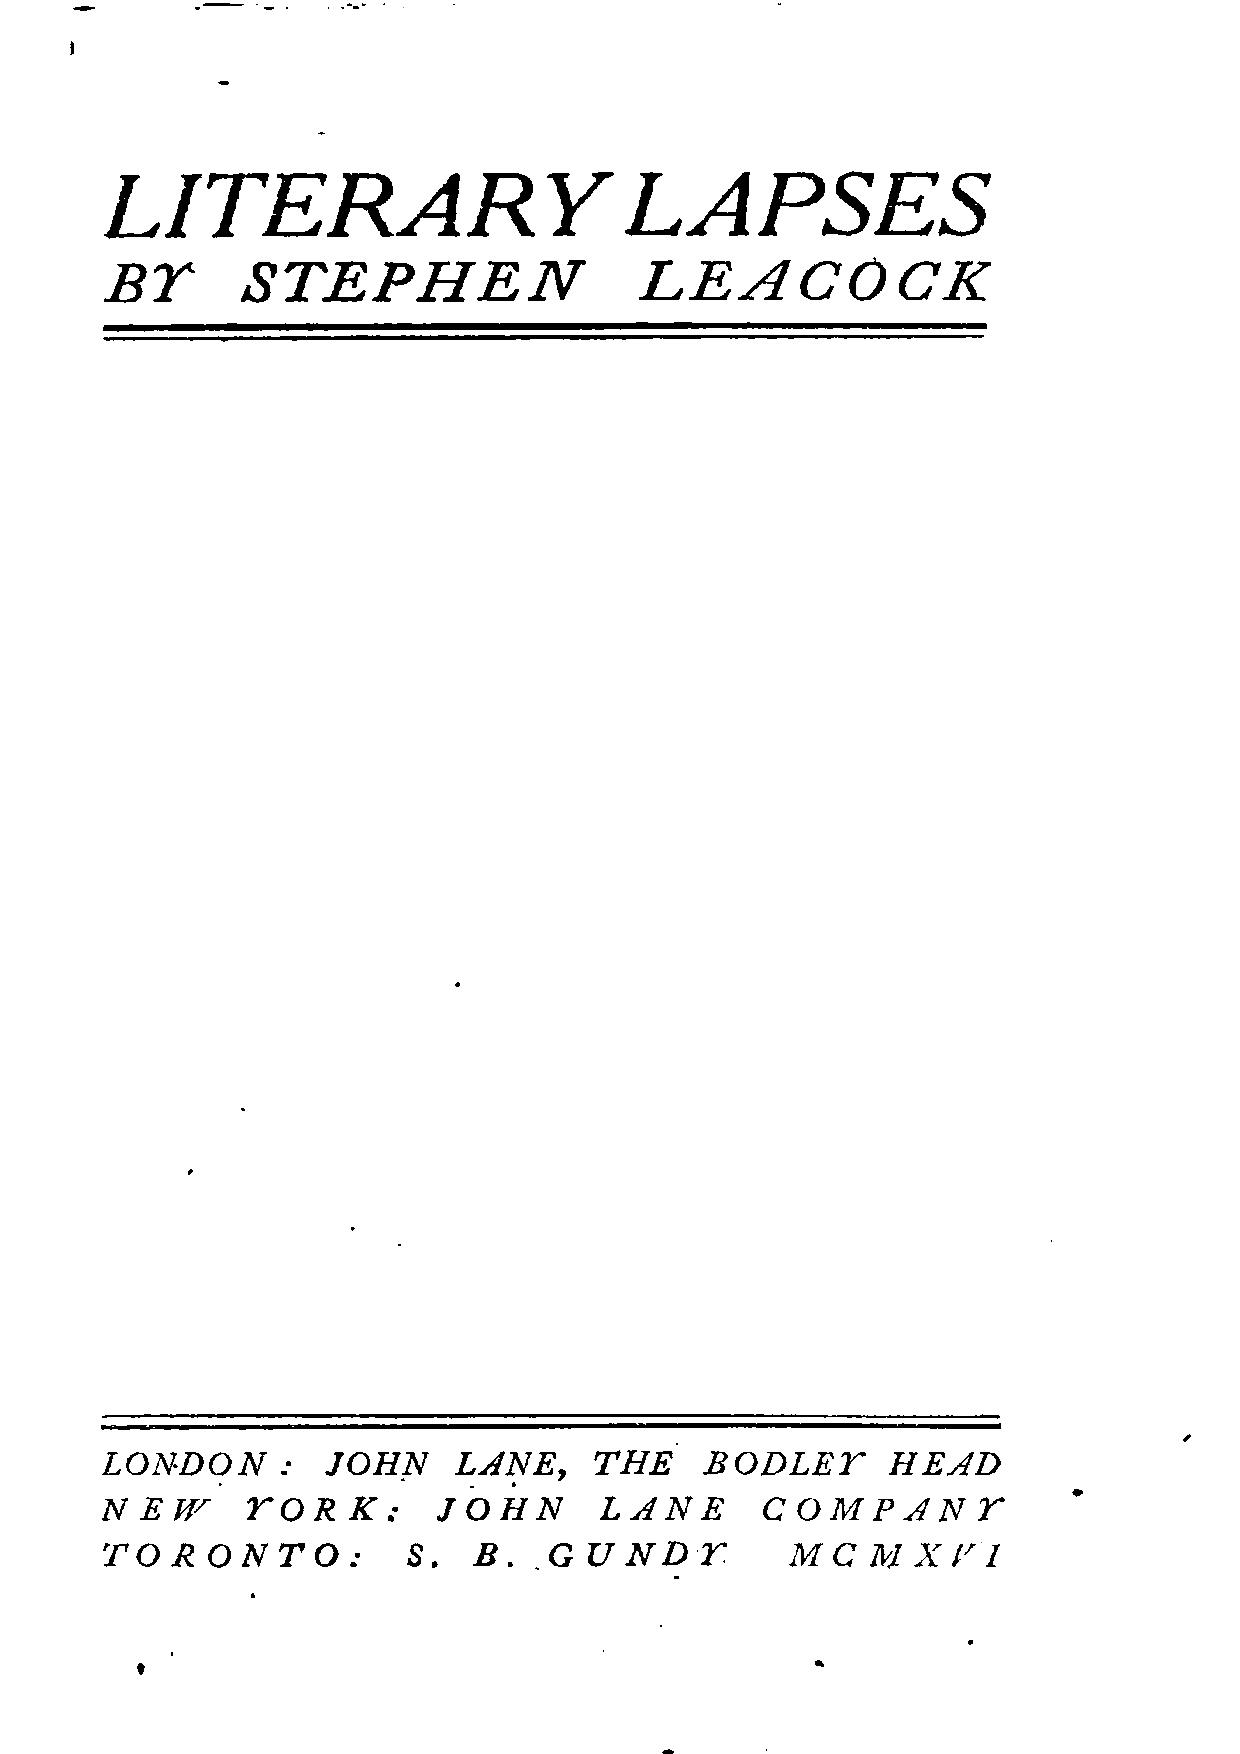author: (101, 258, 992, 305)
title: (101, 168, 992, 243)
